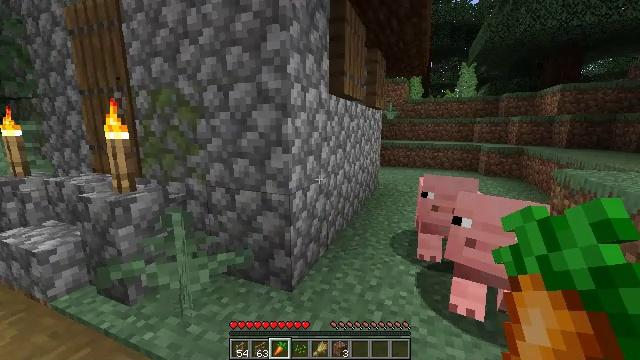pig: (446, 200, 550, 320), (417, 174, 480, 259)
